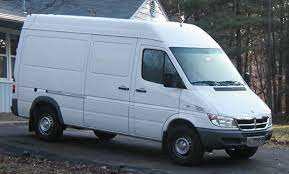van: (11, 12, 274, 166)
